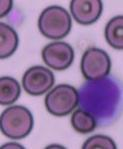L: (77, 73, 123, 127)
